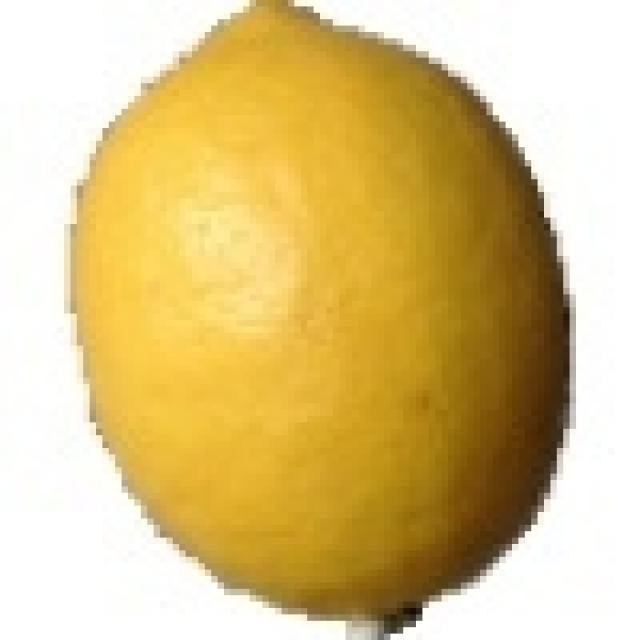lemon: (72, 0, 566, 625)
